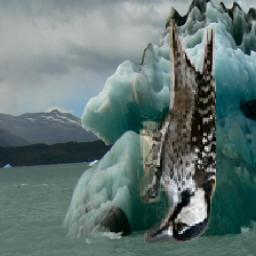Woodpecker: (138, 20, 217, 245)
